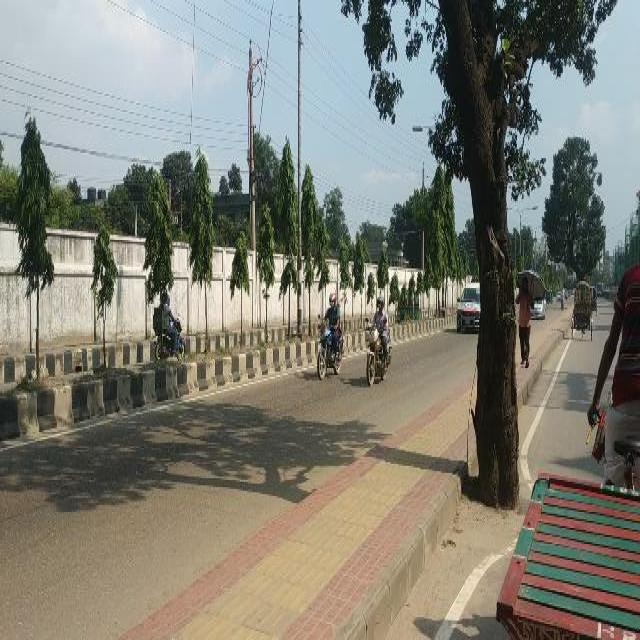bike: (365, 320, 394, 386), (318, 318, 345, 382), (154, 317, 187, 361)
vehicle: (497, 469, 640, 639), (570, 283, 594, 341), (457, 281, 481, 329)
